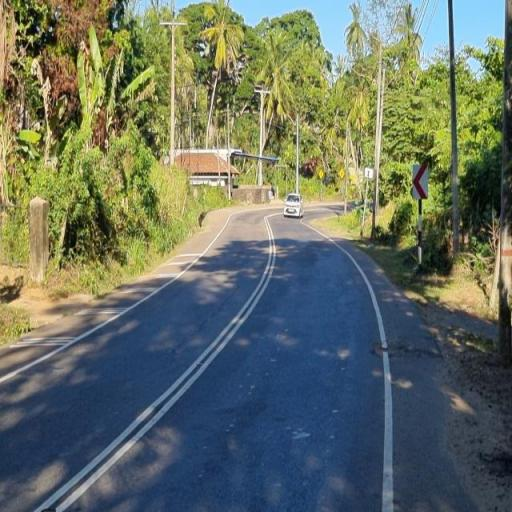double_white_line: (31, 215, 280, 512)
